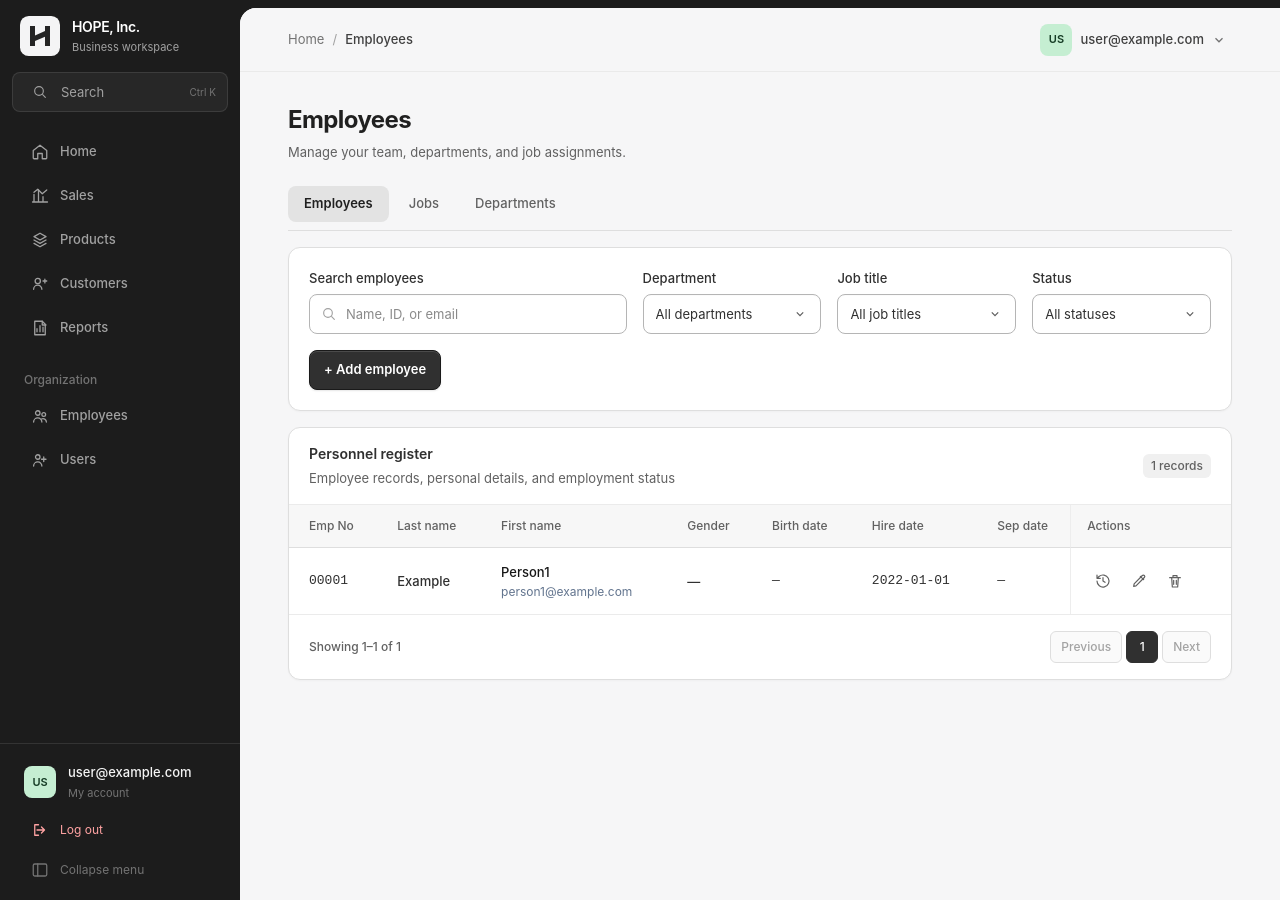
Test case: switches between Employees, Jobs, and Departments tabs and manages lookup records
Click the tab "Jobs" at (424, 204), box [393,186,455,222]
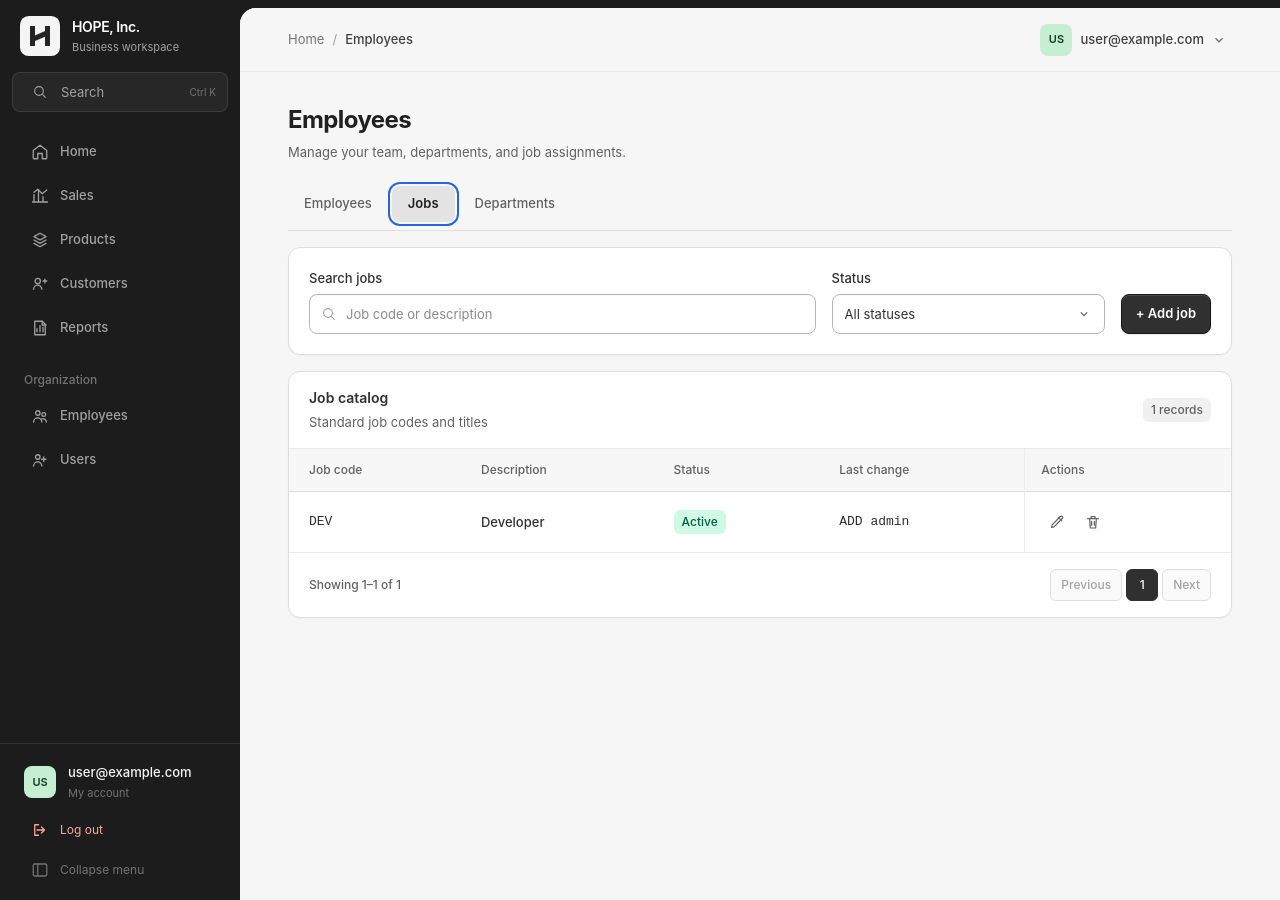
Now the text "Developer" is shown, box [465,492,658,552]
Click the button named "Archive Developer" at (1093, 522), box [1077,506,1109,538]
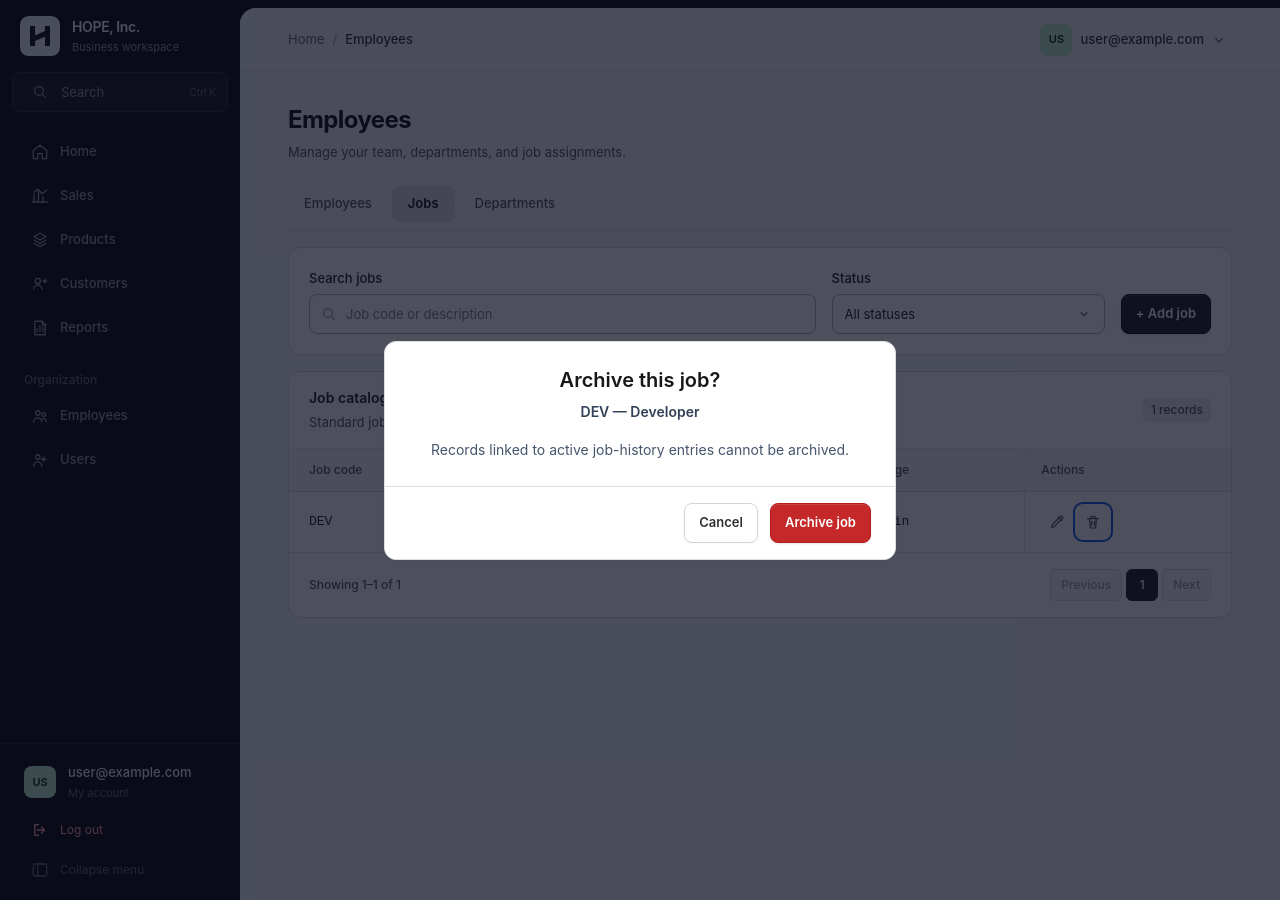
Click the button "Archive job" at (820, 522), box [770,502,871,542]
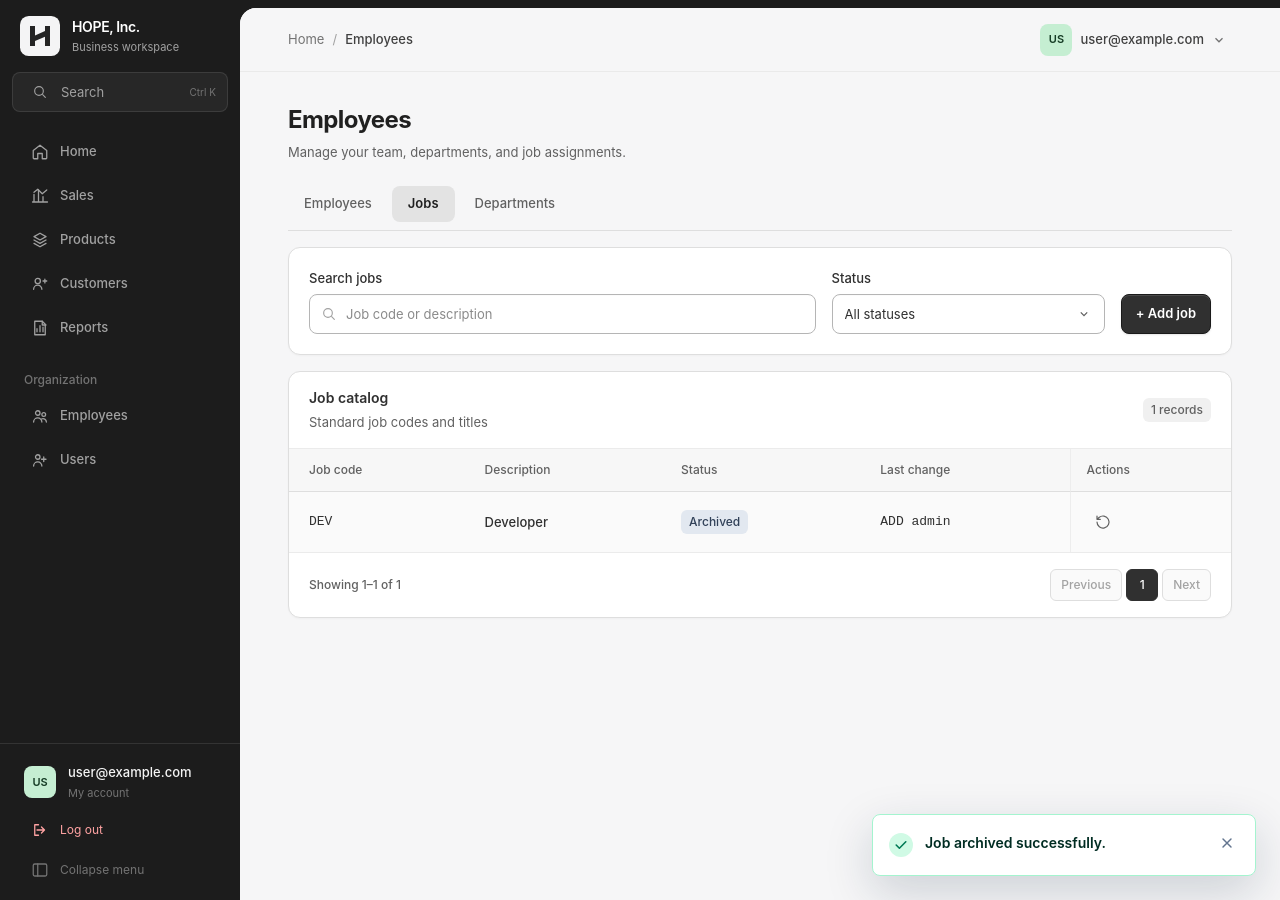
Now the text "Archived" is shown, box [681,510,748,534]
Click the button named "Restore Developer" at (1102, 522), box [1086,506,1118,538]
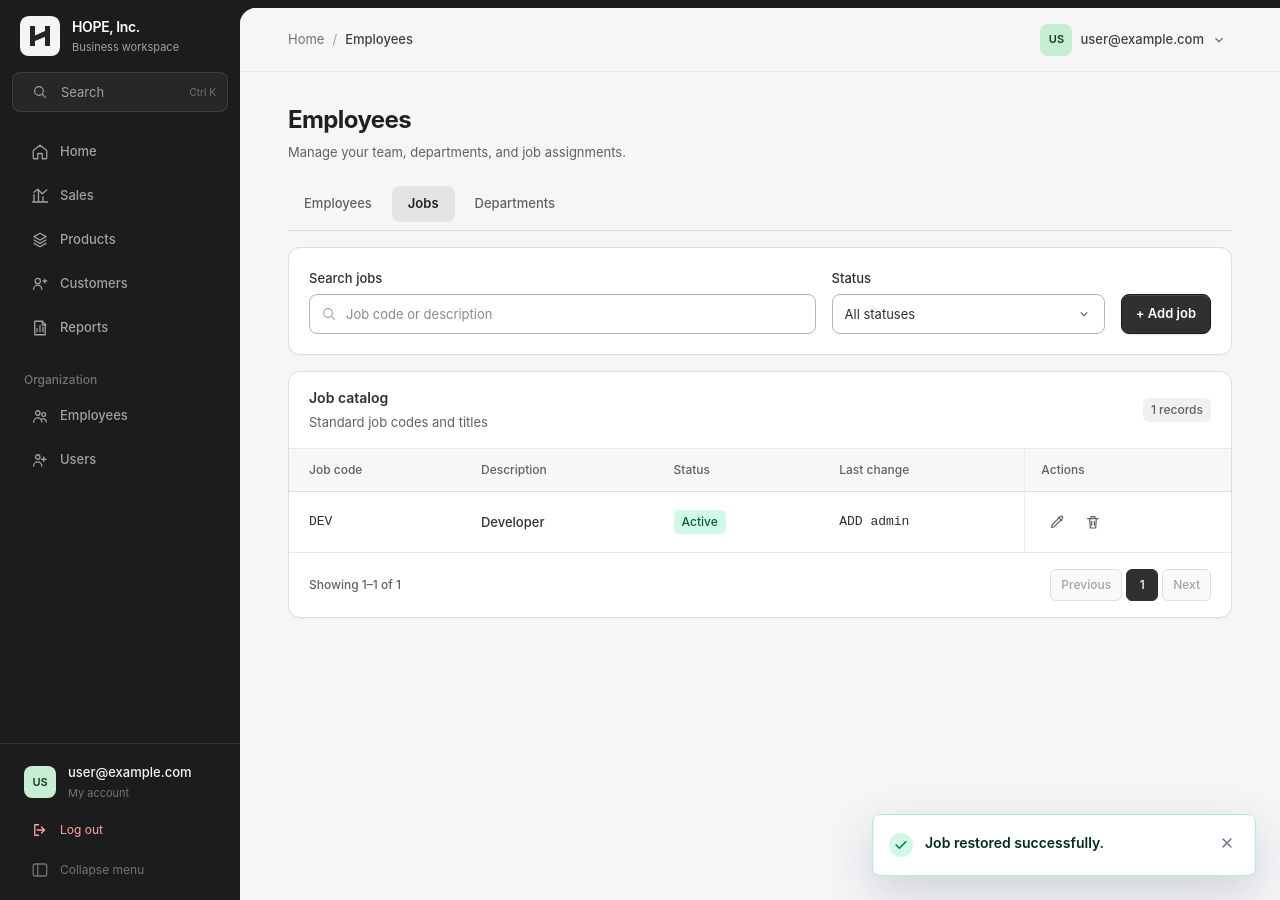
Now the text "Active" is shown, box [674,510,726,534]
Click the tab "Departments" at (515, 204), box [458,186,571,222]
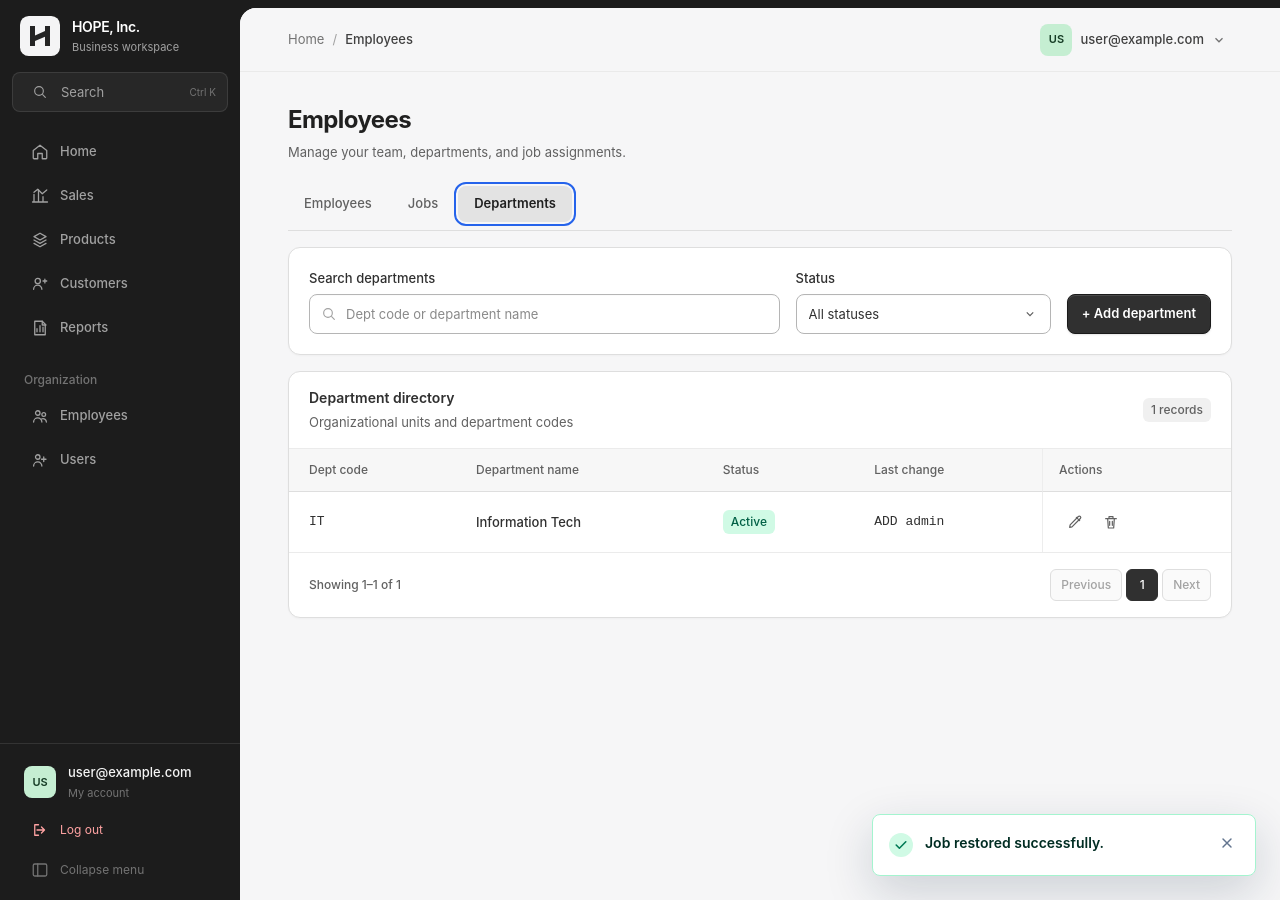
Now the text "Information Tech" is shown, box [460,492,707,552]
